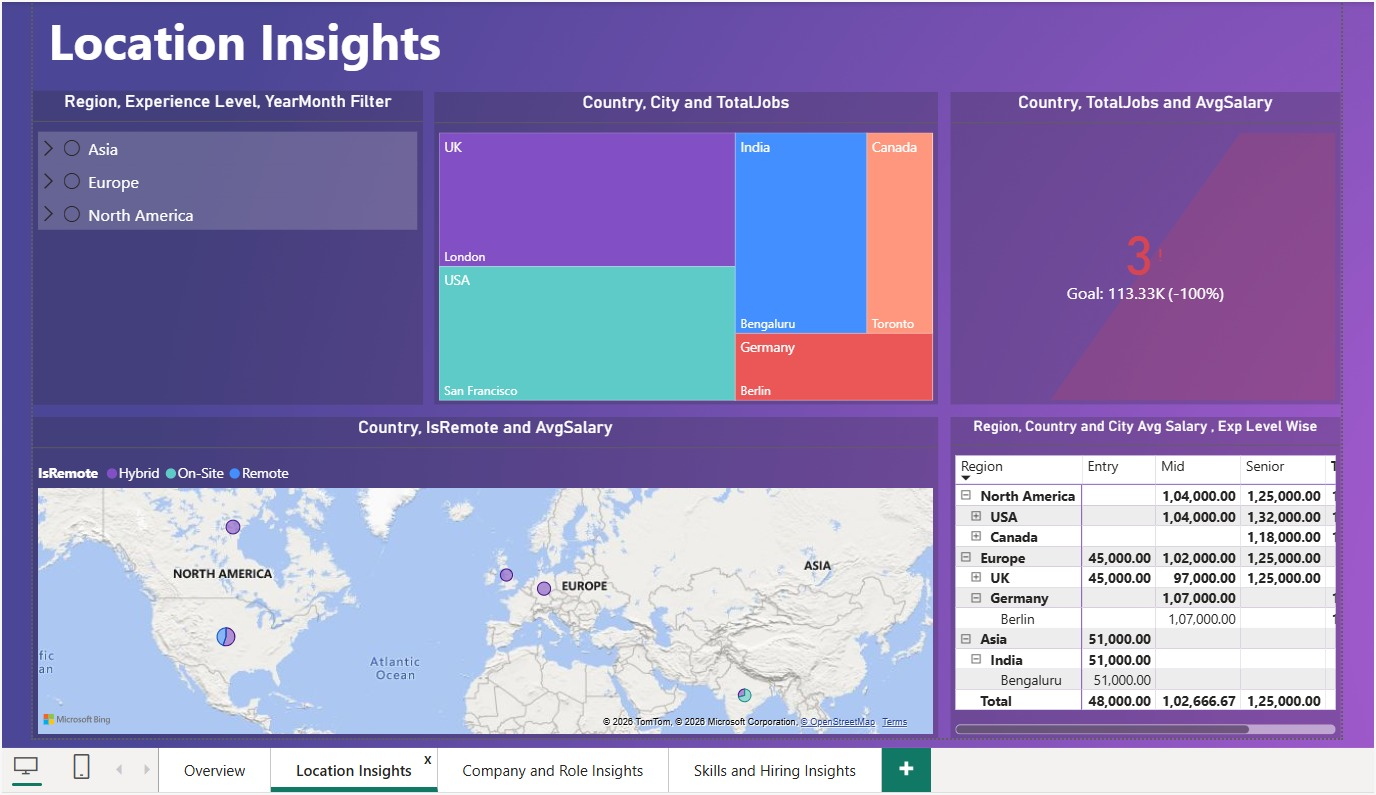

The page's visual inventory and layout, read from the dashboard file:
{"tool":"powerbi","page":{"name":"Location Insights","canvas":[1280,720],"ordinal":1},"visuals":[{"type":"listSlicer","title":"Region, Experience Level, YearMonth Filter","fields":{"Values":["Dim_Locations.Region","Fact_Jobs.Experience_Level"]},"box":[0,86.8,381.5,306.9],"z":0},{"type":"textbox","box":[0,0,413.8,75],"z":1000},{"type":"map","title":"Country, IsRemote and AvgSalary","fields":{"Category":["Dim_Locations.Country"],"Size":["Fact_Jobs.AvgSalaryByCountry"],"Series":["Fact_Jobs.IsRemote"]},"box":[0,406,885.3,314.3],"z":2000},{"type":"kpi","title":"Country, TotalJobs and AvgSalary","fields":{"Indicator":["Fact_Jobs.TotalJobs"],"Goal":["Fact_Jobs.AvgSalaryByCountry"],"TrendLine":["Dim_Locations.Country"]},"box":[897.6,88,381.5,305.7],"z":3000},{"type":"treemap","title":"Country, City and TotalJobs ","fields":{"Values":["Fact_Jobs.TotalJobs"],"Group":["Dim_Locations.Country"],"Details":["Dim_Locations.City"]},"box":[392.5,88,492.8,305.7],"z":4000},{"type":"pivotTable","title":"Region, Country and City Avg Salary , Exp Level Wise","fields":{"Values":["Fact_Jobs.AvgSalaryByCountry"],"Rows":["Dim_Locations.Region","Dim_Locations.Country","Dim_Locations.City"],"Columns":["Fact_Jobs.Experience_Level"]},"box":[897.6,406,381.5,314.3],"z":5000}]}

Visuals, with their boxes on the page's 1280x720 design canvas (x1, y1, x2, y2). These are canvas units, not pixel positions in the 1376x795 screenshot, which may show the page scaled, cropped or inside an application window:
"Region, Experience Level, YearMonth Filter" listSlicer: BBox(0, 87, 382, 394)
textbox: BBox(0, 0, 414, 75)
"Country, IsRemote and AvgSalary" map: BBox(0, 406, 885, 720)
"Country, TotalJobs and AvgSalary" kpi: BBox(898, 88, 1279, 394)
"Country, City and TotalJobs " treemap: BBox(392, 88, 885, 394)
"Region, Country and City Avg Salary , Exp Level Wise" pivotTable: BBox(898, 406, 1279, 720)
